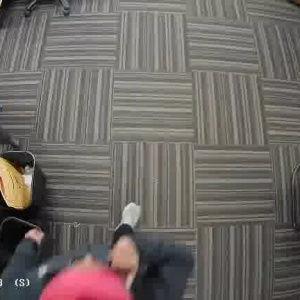person: (8, 225, 191, 300)
